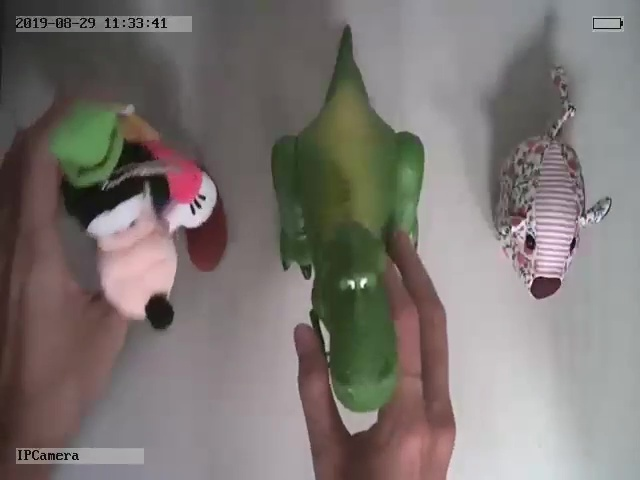goofy: (51, 99, 229, 330)
pig: (492, 63, 611, 301)
rex: (268, 25, 428, 413)
